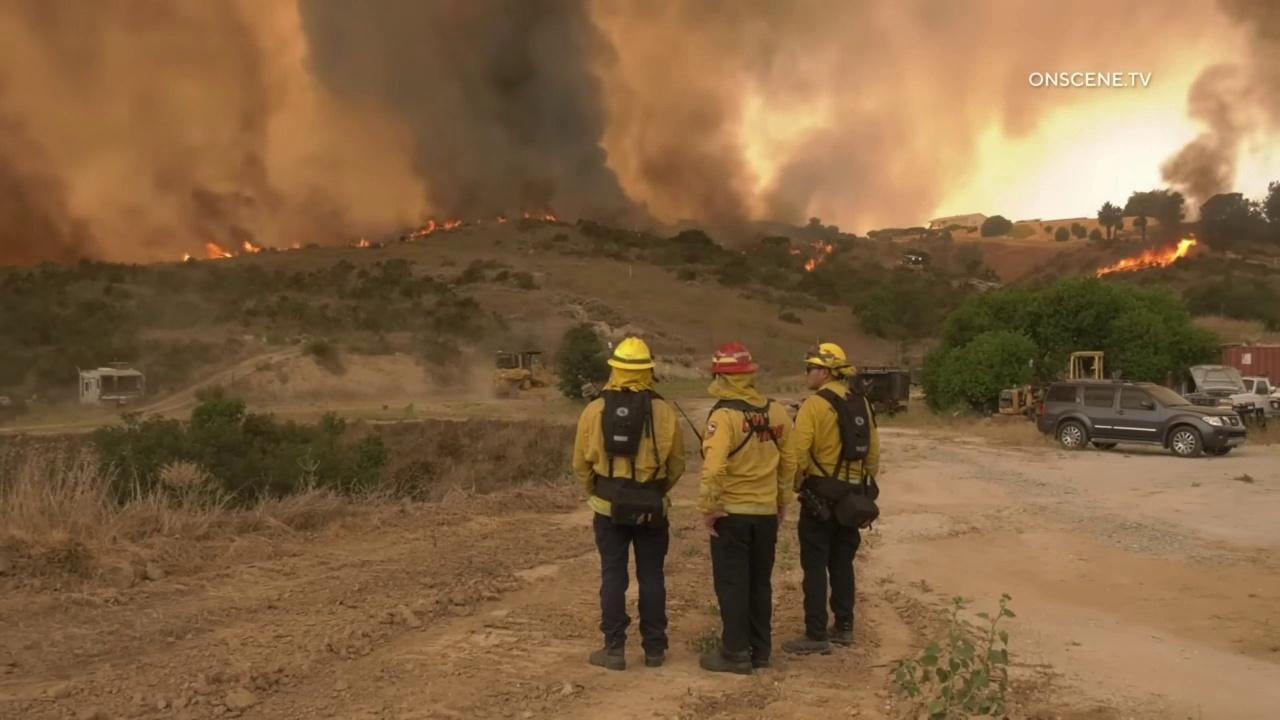fire: (1096, 231, 1197, 279), (409, 218, 463, 241), (804, 239, 832, 272), (204, 242, 232, 258), (243, 240, 261, 254), (354, 237, 371, 248), (545, 214, 557, 223), (790, 248, 801, 257), (182, 252, 190, 264), (498, 215, 507, 223), (293, 241, 300, 249), (524, 212, 530, 219)
smoke: (0, 0, 1280, 270)
